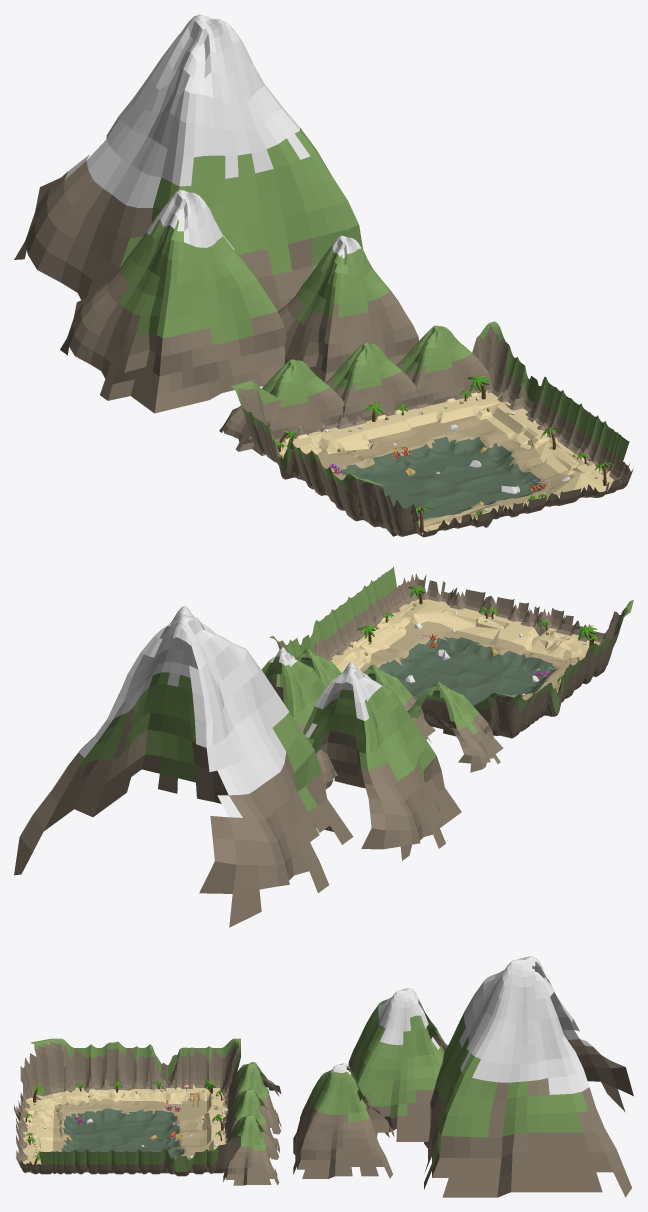
The model's file is terrain.glb.
3 renders of one model, top to bottom at view 1: azimuth 30°, elevation 25°; view 2: azimuth 150°, elevation 25°; view 3: azimuth 270°, elevation 25°, orthographic. The views are drawn at different scales.
Visible parts, largest first — view 1: Cube.016, terrain, Cube.017, Cube.021, Cube.019, Cube.018, Cube.020; view 2: Cube.016, terrain, Cube.017, Cube.019, Cube.021, Cube.018, Cube.020; view 3: Cube.016, terrain, Cube.017, Cube.021, Cube.020, Cube.019, Cube.018.
Boxes of the visible parts, x1,y1,x2,y2 form: Cube.016: (14, 14, 362, 310); terrain: (230, 321, 633, 537); Cube.017: (60, 189, 286, 413); Cube.021: (278, 235, 418, 382); Cube.019: (219, 359, 343, 455); Cube.018: (325, 342, 419, 423); Cube.020: (396, 325, 489, 405); Cube.016: (14, 606, 353, 927); terrain: (269, 566, 633, 738); Cube.017: (303, 661, 461, 860); Cube.019: (407, 681, 503, 772); Cube.021: (261, 647, 347, 789); Cube.018: (363, 664, 435, 742); Cube.020: (296, 648, 341, 687); Cube.016: (424, 956, 633, 1197); terrain: (14, 1038, 240, 1176); Cube.017: (348, 988, 447, 1141); Cube.021: (293, 1063, 394, 1178); Cube.020: (223, 1114, 279, 1185); Cube.019: (227, 1062, 281, 1134); Cube.018: (225, 1088, 281, 1159).
Size of the model in its own units: 183 by 148 by 406.
